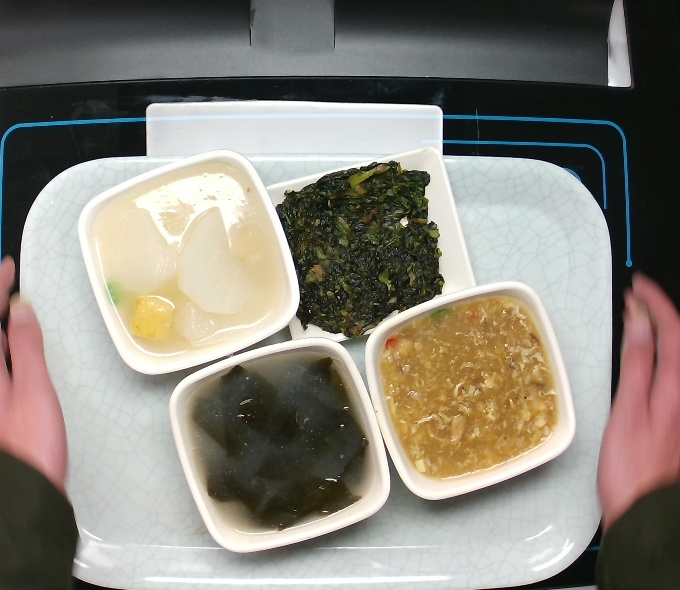wcq-HaiDaiPaiGuTang: (185, 350, 379, 533)
wcq-LuoBoYouPaoTang: (88, 159, 285, 354)
wcq-QinCaiBing: (275, 161, 444, 334)
wcq-SuanLaGeng: (379, 295, 556, 480)
